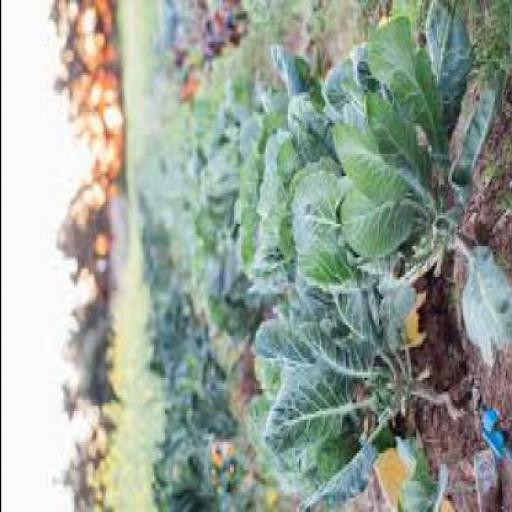biodegradable: (281, 12, 510, 366), (240, 266, 425, 509), (231, 42, 329, 299), (198, 92, 256, 235), (151, 423, 227, 509), (201, 238, 259, 344), (203, 430, 268, 510), (173, 350, 234, 430), (160, 288, 197, 361), (145, 333, 175, 397)
